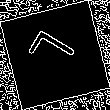L_SE: (25, 29, 85, 81)
